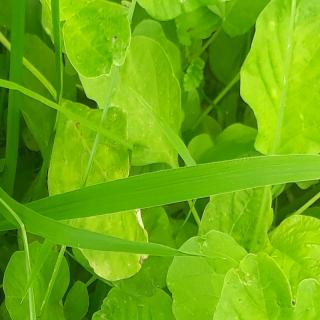virus_keriting: (114, 0, 294, 17)
